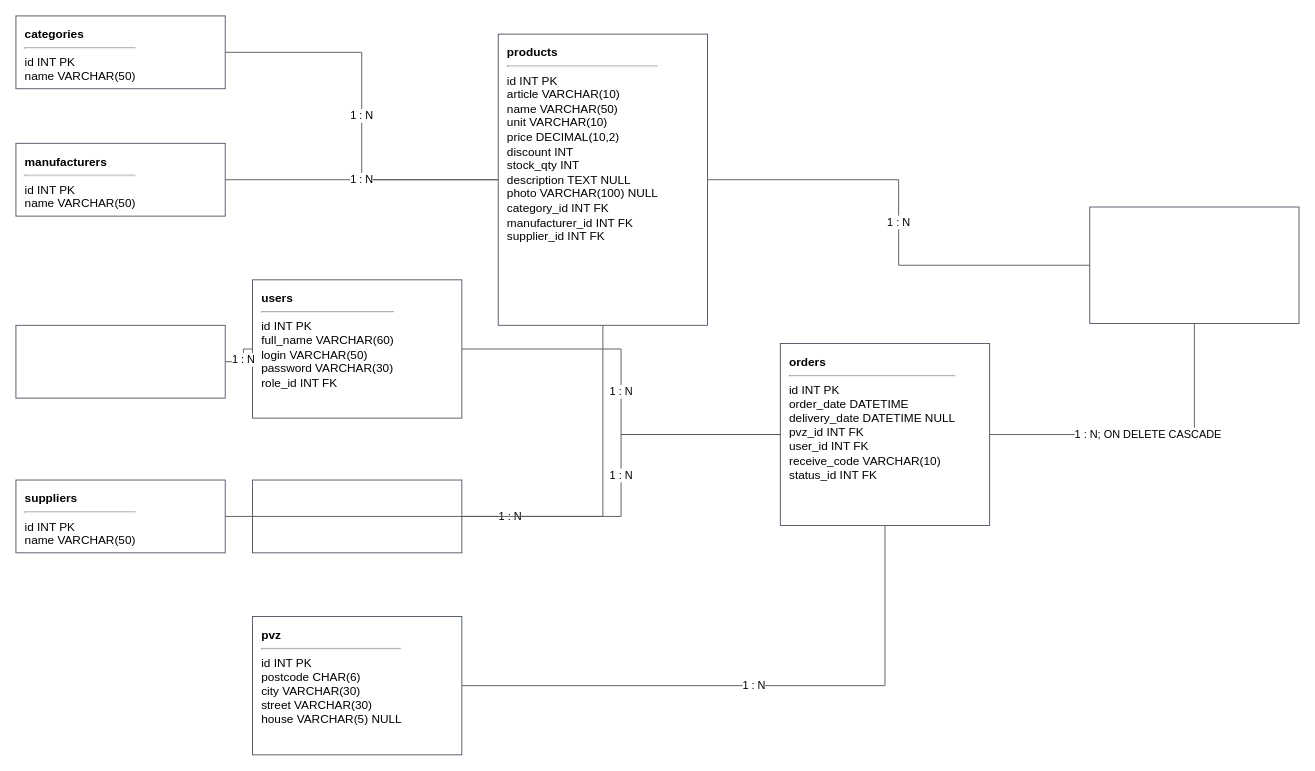
Image size: 1315x771. Some labels were removed from this diagram. Here are the shapes that lost their labels. From the top down, the centre of each, then its label:
At (x=1194, y=265): "prodorders id INT PK order_id INT FK product_id INT FK qty INT".
At (x=120, y=361): "roles id INT PK name VARCHAR(30)".
At (x=357, y=516): "orderstatus id INT PK name VARCHAR(20)".
